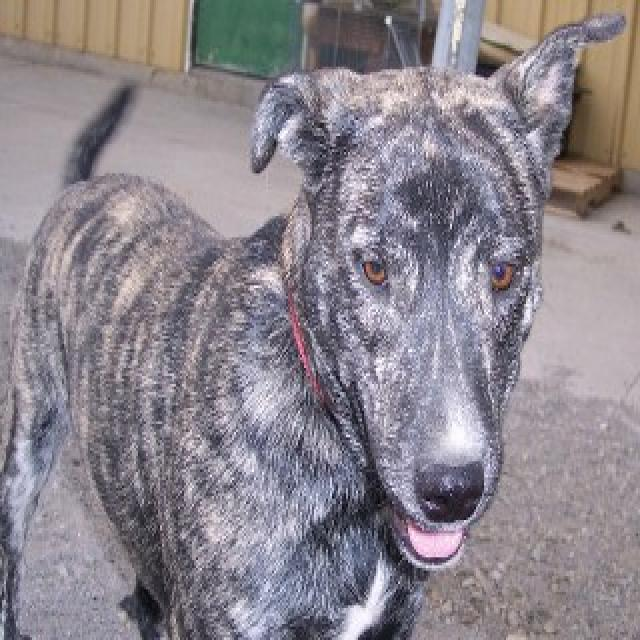Dogs: (0, 8, 626, 637)
